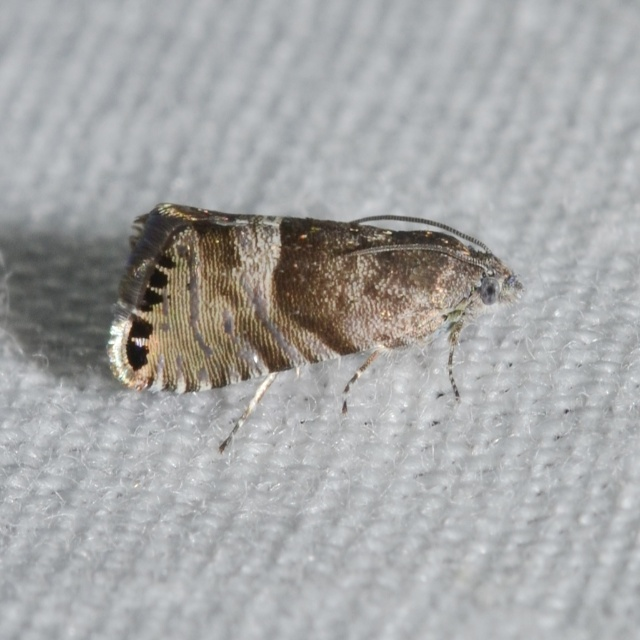Moths and butterflies: (105, 201, 527, 457)
